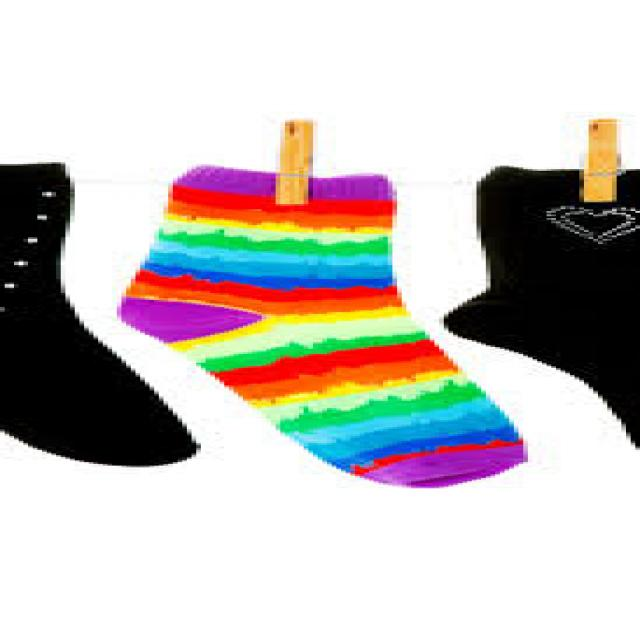Clothes -Biodegradable-: (109, 167, 541, 487), (0, 164, 194, 465), (441, 168, 640, 442)
